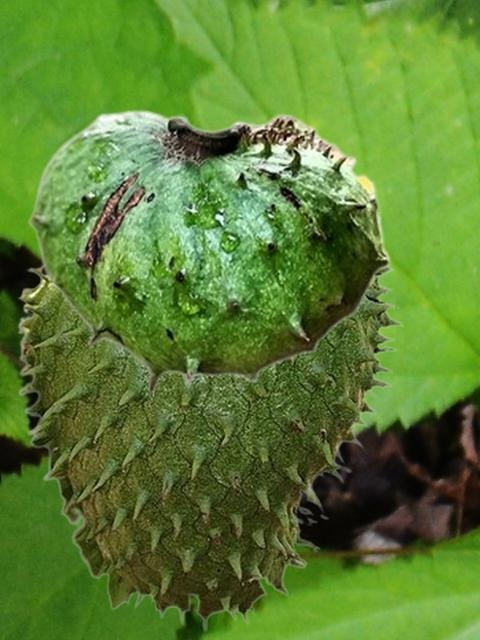guyabano: (17, 264, 403, 632), (28, 109, 390, 395)
